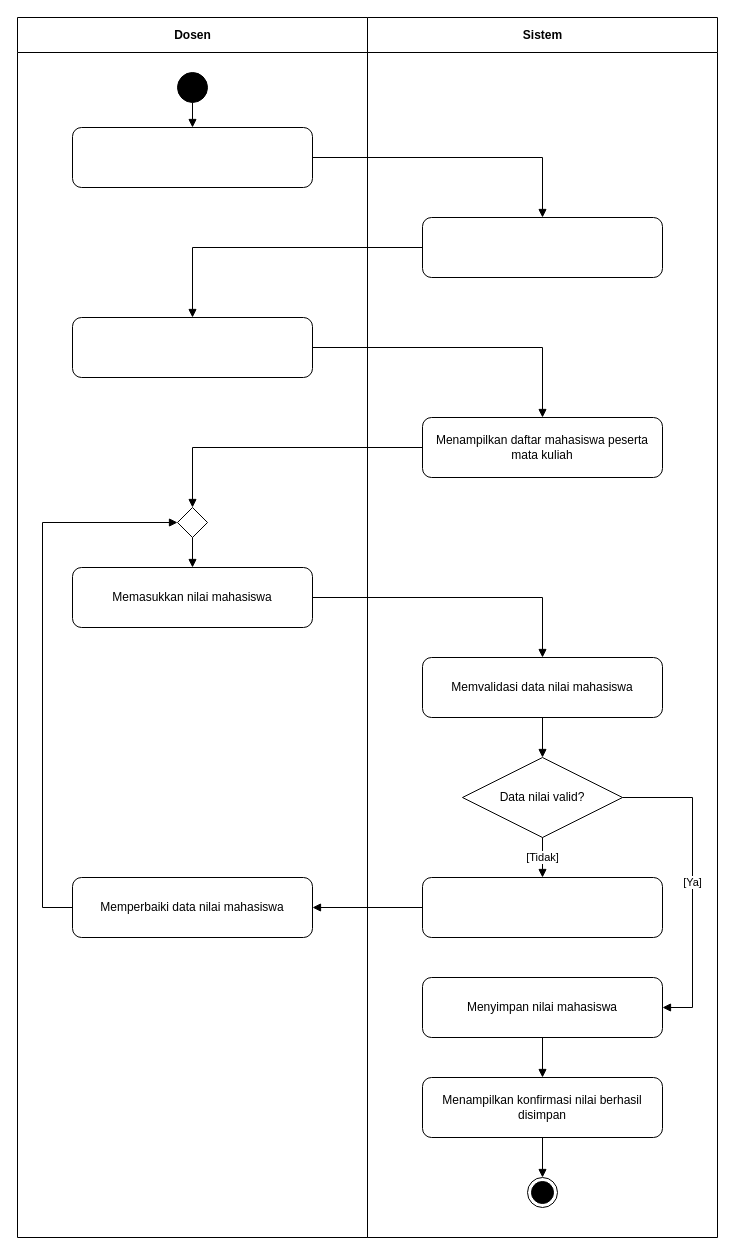
The diagram is 735 pixels wide and 1255 high, and some of its shapes have lost their labels. The box of each missing label's shape, as (x1, y1, x2, y2) in pixels:
Membuka menu input nilai mata kuliah: (72, 126, 312, 188)
Memilih mata kuliah yang akan diinput nilainya: (72, 316, 312, 378)
Menampilkan daftar mata kuliah yang diampu: (422, 216, 662, 278)
Menampilkan pesan kesalahan input nilai: (422, 876, 662, 938)
